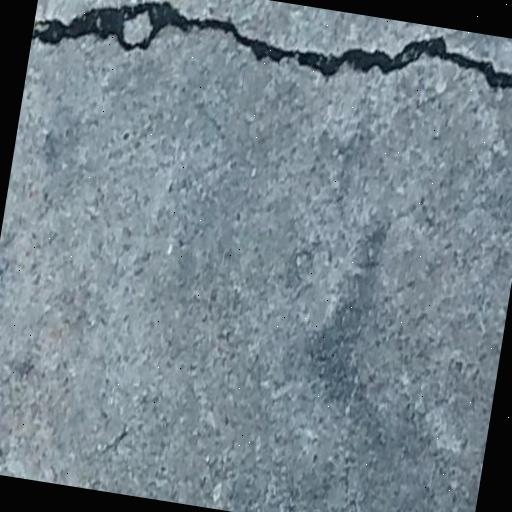spalling: (39, 0, 512, 101)
